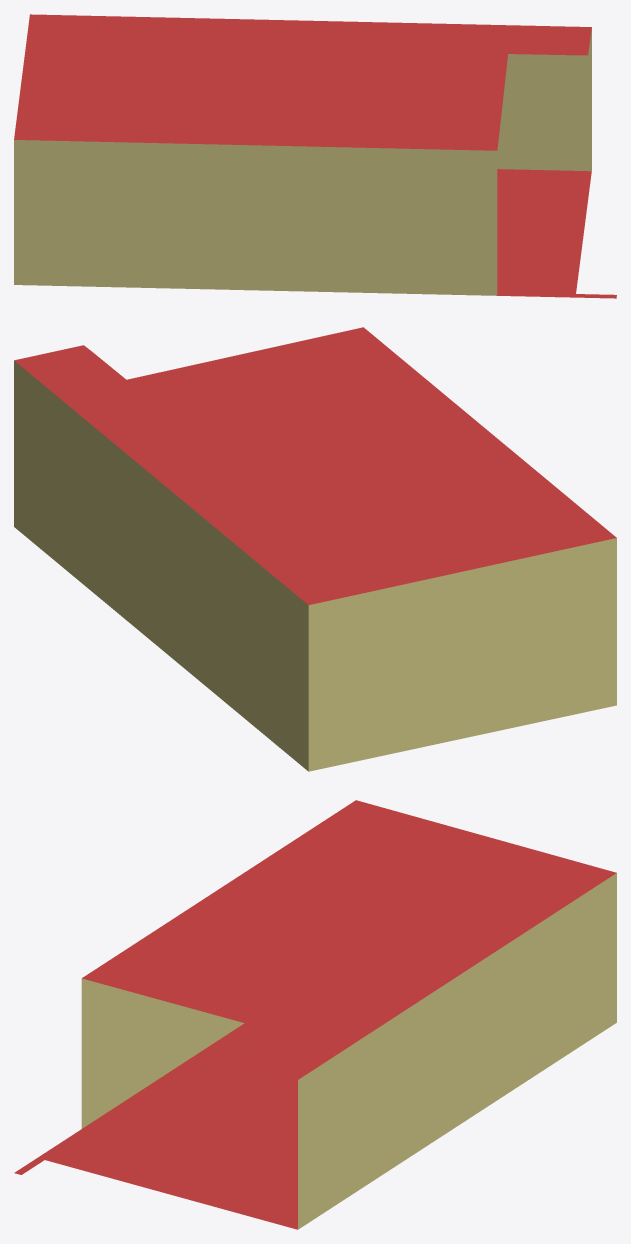
The picture shows the model from 3 angles, top to bottom: view 1: azimuth 30°, elevation 25°; view 2: azimuth 150°, elevation 25°; view 3: azimuth 270°, elevation 25°; orthographic projection. The views are drawn at different scales.
Parts seen in each view (by area): view 1: group_4, group_3, group_5; view 2: group_4, group_3; view 3: group_3, group_4, group_5.
Part boxes in pixels (<box>): group_4: <box>14,27,591,295</box>; group_3: <box>14,14,591,150</box>; group_5: <box>497,169,616,298</box>; group_4: <box>14,360,616,771</box>; group_3: <box>14,327,616,604</box>; group_3: <box>82,800,616,1079</box>; group_4: <box>81,873,616,1229</box>; group_5: <box>14,1023,297,1229</box>.
Bounding box in the file's own units: 29.07 × 26.56 × 7.33.
